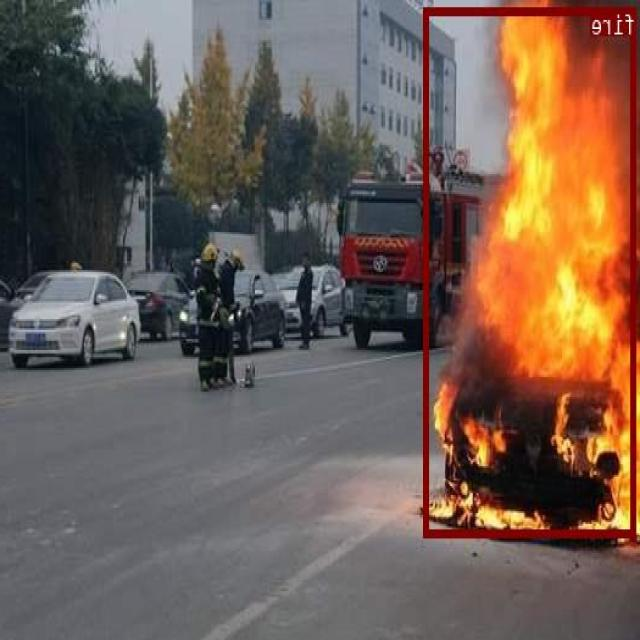fire: (426, 6, 638, 536)
